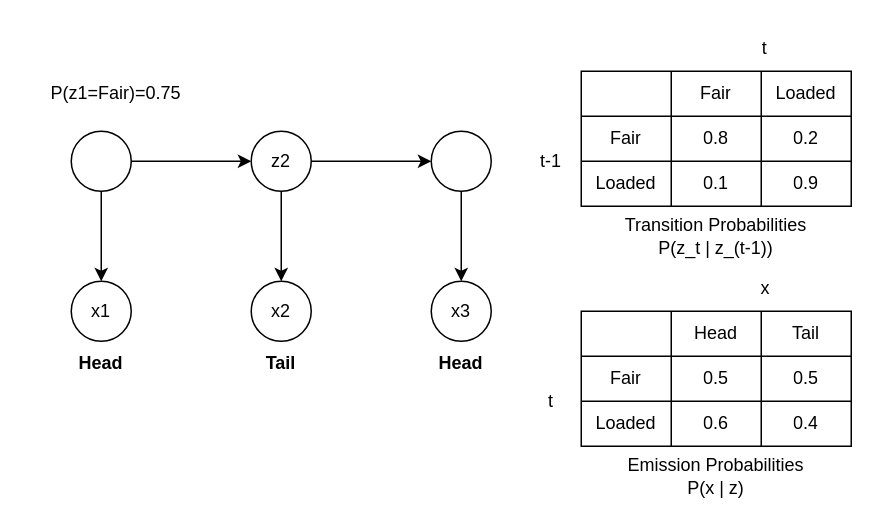
Image size: 878x531. Some labels were removed from this diagram. The shapes that lost their labels are listed below. From the top down, each one's box as (x1, y1, x2, y2) in pixels, then its label:
(70, 130, 131, 191): z1
(430, 130, 491, 191): z3
